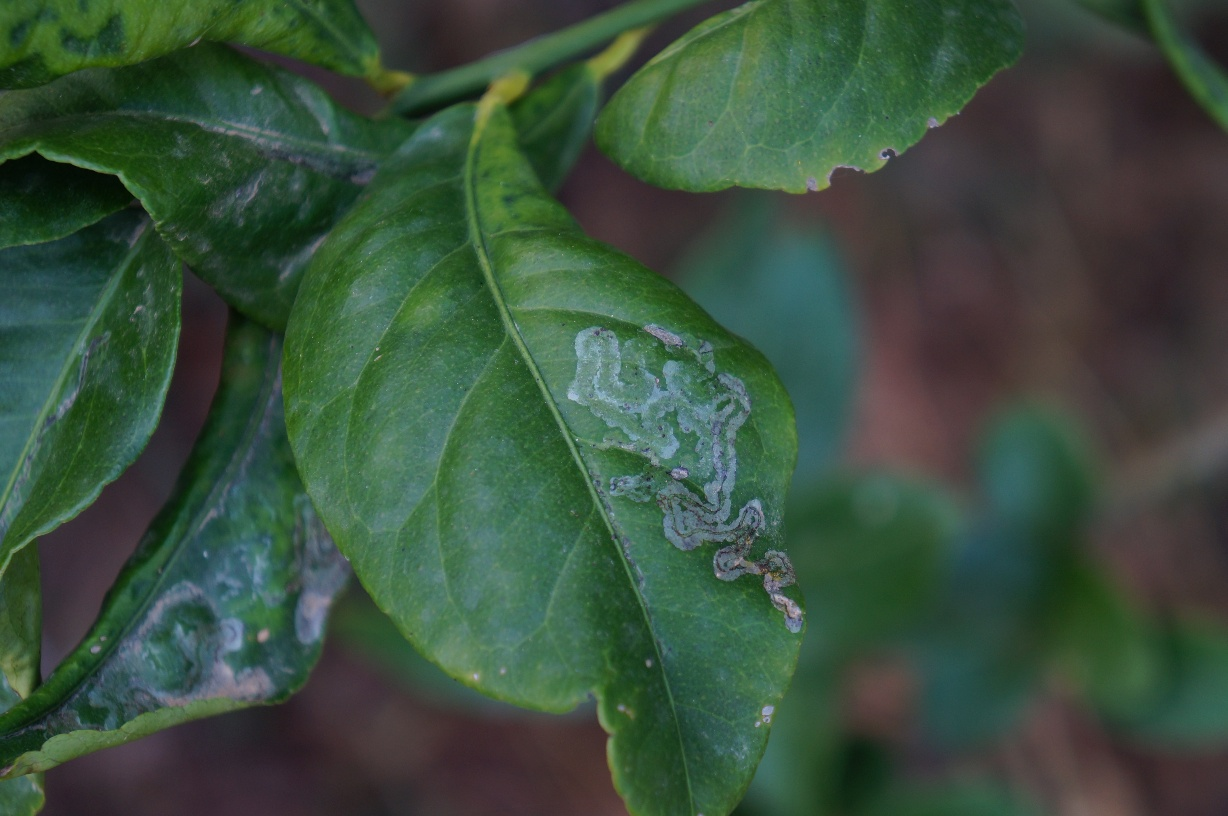damage: (28, 478, 352, 756), (555, 313, 809, 640)
